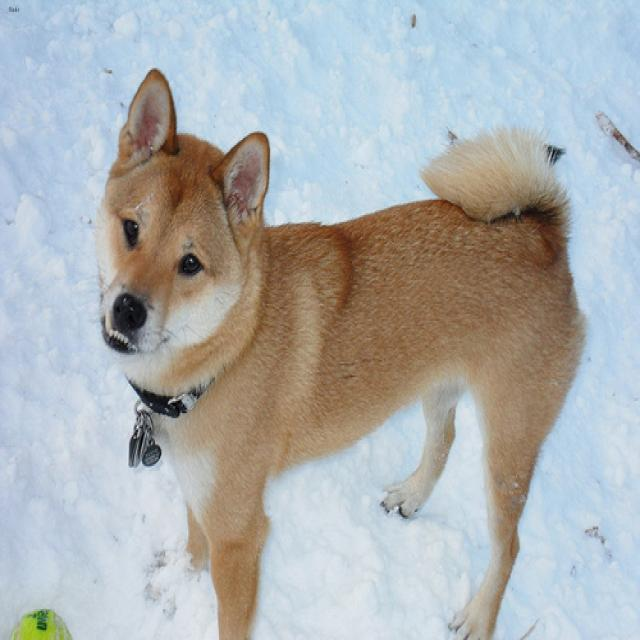dog-shiba_inu: (86, 60, 595, 637)
